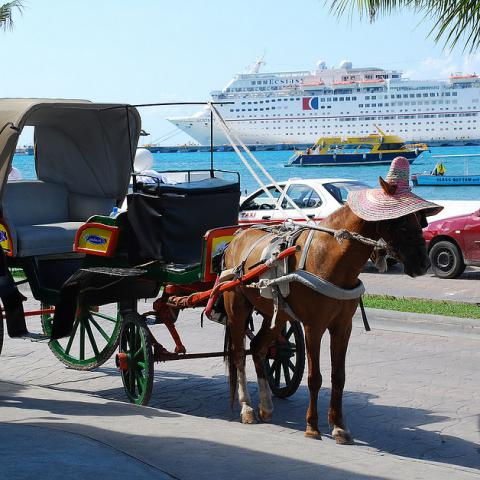car: (239, 179, 377, 225), (422, 214, 478, 276)
